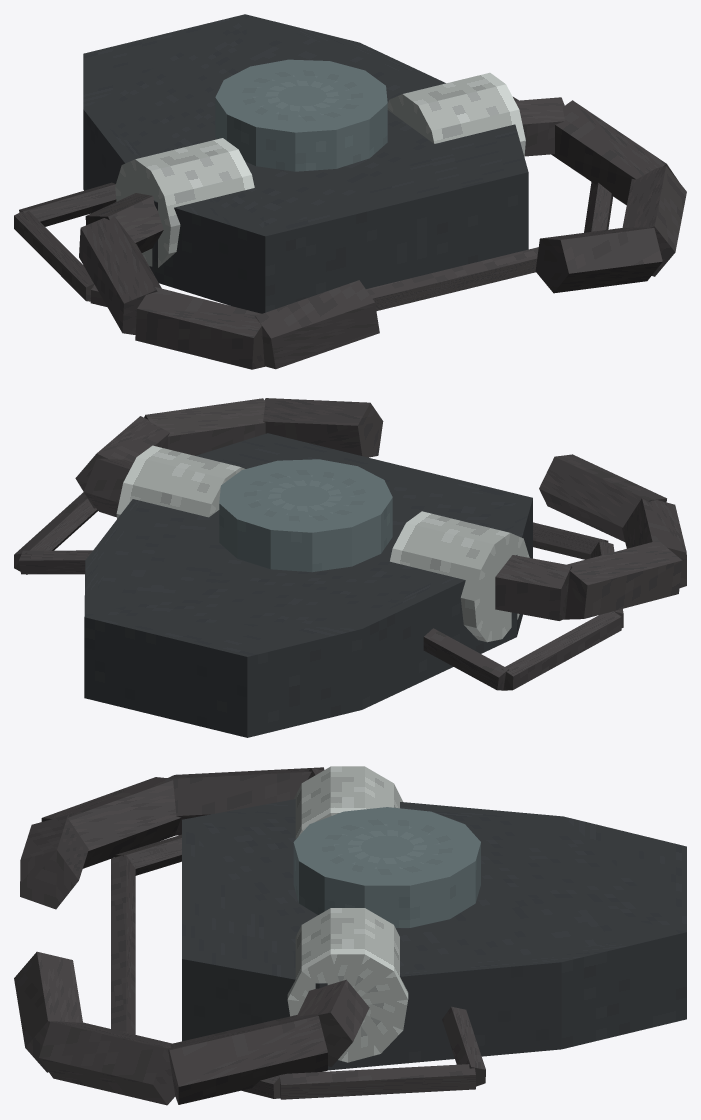
Rendered from rebreather.glb.
3 renders of one model, top to bottom at view 1: azimuth 30°, elevation 25°; view 2: azimuth 150°, elevation 25°; view 3: azimuth 270°, elevation 25°, orthographic. The views are drawn at different scales.
Visible parts, largest first — view 1: block_low-profile mouth and nose mask, block_front valve cover, block_side coupling (×2), block_breathing loop 3 (×2), block_breathing loop 1 (×2), block_breathing loop 2 (×2), block_breathing loop 0 (×2), block_adjustable head strap 3, block_adjustable head strap 1, block_adjustable head strap 0, block_adjustable head strap 4; view 2: block_low-profile mouth and nose mask, block_front valve cover, block_side coupling (×2), block_breathing loop 3 (×2), block_breathing loop 1 (×2), block_breathing loop 2 (×2), block_breathing loop 0 (×2), block_adjustable head strap 1, block_adjustable head strap 0, block_adjustable head strap 5, block_adjustable head strap 6, block_adjustable head strap 3; view 3: block_low-profile mouth and nose mask, block_front valve cover, block_side coupling (×2), block_breathing loop 2 (×2), block_breathing loop 1 (×2), block_breathing loop 3 (×2), block_adjustable head strap 5, block_adjustable head strap 3, block_breathing loop 0, block_adjustable head strap 6, block_adjustable head strap 2, block_adjustable head strap 4.
Part boxes in pixels (x1,y1,x2,y2): block_low-profile mouth and nose mask: (83, 14, 528, 313); block_front valve cover: (215, 59, 387, 171); block_side coupling (×2): (115, 72, 525, 267); block_breathing loop 3 (×2): (255, 227, 662, 369); block_breathing loop 1 (×2): (79, 100, 678, 334); block_breathing loop 2 (×2): (135, 166, 686, 369); block_breathing loop 0 (×2): (85, 97, 564, 252); block_adjustable head strap 3: (366, 247, 538, 310); block_adjustable head strap 1: (14, 209, 94, 301); block_adjustable head strap 0: (19, 182, 116, 226); block_adjustable head strap 4: (584, 182, 613, 232); block_low-profile mouth and nose mask: (84, 433, 532, 737); block_front valve cover: (219, 459, 392, 572); block_side coupling (×2): (116, 445, 529, 642); block_breathing loop 3 (×2): (263, 398, 666, 541); block_breathing loop 1 (×2): (75, 416, 682, 619); block_breathing loop 2 (×2): (144, 398, 686, 587); block_breathing loop 0 (×2): (83, 458, 572, 620); block_adjustable head strap 1: (501, 611, 621, 690); block_adjustable head strap 0: (423, 628, 508, 690); block_adjustable head strap 5: (14, 492, 97, 574); block_adjustable head strap 6: (19, 550, 92, 574); block_adjustable head strap 3: (533, 522, 608, 559); block_low-profile mouth and nose mask: (182, 799, 686, 1070); block_front valve cover: (293, 807, 480, 927); block_side coupling (×2): (287, 766, 408, 1062); block_breathing loop 2 (×2): (39, 777, 181, 1105); block_breathing loop 1 (×2): (165, 767, 327, 1104); block_breathing loop 3 (×2): (14, 815, 88, 1072); block_adjustable head strap 5: (279, 1064, 475, 1099); block_adjustable head strap 3: (111, 854, 135, 1034); block_breathing loop 0: (297, 979, 369, 1067); block_adjustable head strap 6: (442, 1006, 485, 1086); block_adjustable head strap 2: (115, 834, 181, 875); block_adjustable head strap 4: (241, 1074, 281, 1098).
Size of the model in its own units: 0.1905 by 0.039 by 0.1837.
Materials: 1 (1 with a texture image).
